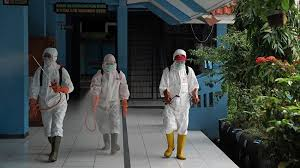mask: (41, 47, 59, 68), (102, 53, 117, 72), (172, 47, 185, 68)
